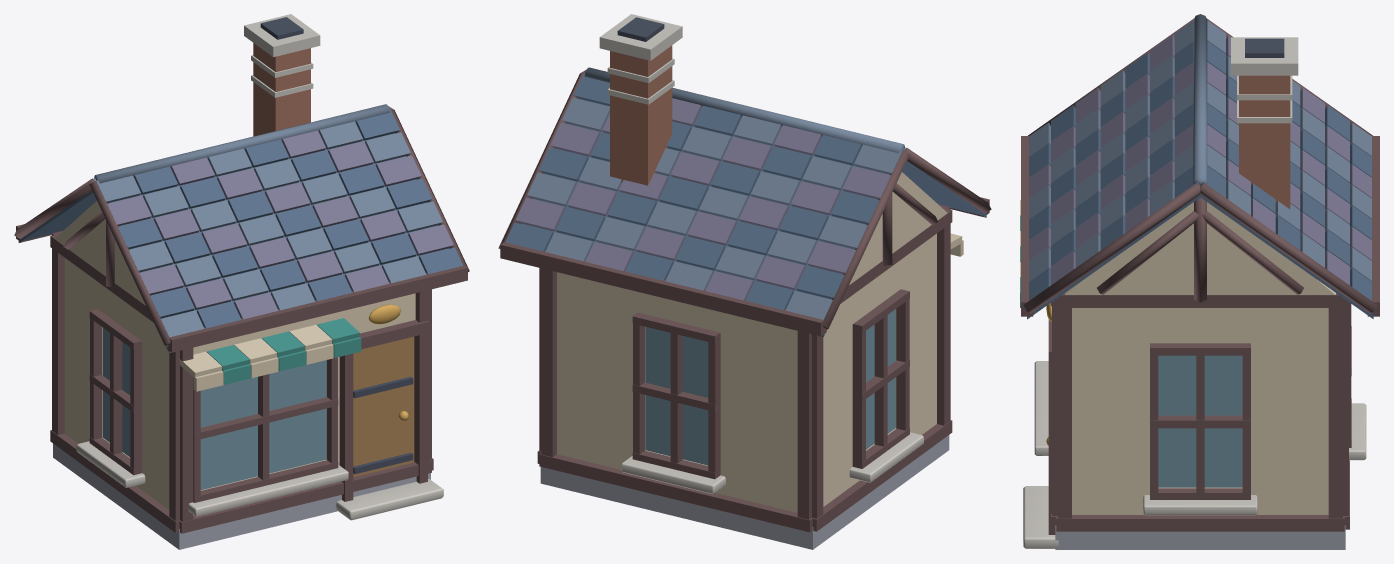
File: bakery.glb
3 views of the same model, side by side, from view 1: azimuth 30°, elevation 25°; view 2: azimuth 150°, elevation 25°; view 3: azimuth 270°, elevation 25° (orthographic). The views are drawn at different scales.
Parts seen in each view (by area): view 1: glass_bakery_front_floor0_window0, bakery_front_oak_door, bakery_eave_fascia, bakery_stone_footing, bakery_russet_chimney, bakery_left_wall.006, bakery_front_beam, bakery_left_wall.001, bakery_roof_ridge, bakery_gable_infill.001, bakery_left_corner_post, bakery_front_floor0_window0_sill (+98 smaller); view 2: bakery_back_wall.006, bakery_back_wall.001, bakery_stone_footing, bakery_russet_chimney, glass_bakery_back_floor0_window0, bakery_eave_fascia.001, bakery_back_beam, bakery_left_wall.001, bakery_left_wall.006, bakery_back_corner_post, bakery_gable_infill.001, bakery_roof_ridge (+89 smaller); view 3: bakery_right_wall.006, bakery_right_wall.001, bakery_gable_infill, glass_bakery_right_floor0_window0, bakery_stone_footing, bakery_russet_chimney, bakery_right_beam, bakery_right_wall.007, bakery_right_beam.001, bakery_right_wall.002, bakery_right_corner_post.001, bakery_right_wall.004 (+107 smaller).
Boxes of the visible parts, left/top/right/bottom form: glass_bakery_front_floor0_window0: left=200, top=360, right=326, bottom=490; bakery_front_oak_door: left=353, top=336, right=414, bottom=477; bakery_eave_fascia: left=166, top=265, right=467, bottom=352; bakery_stone_footing: left=53, top=443, right=430, bottom=549; bakery_russet_chimney: left=253, top=43, right=310, bottom=136; bakery_left_wall.006: left=142, top=348, right=169, bottom=486; bakery_front_beam: left=179, top=461, right=431, bottom=533; bakery_left_wall.001: left=64, top=291, right=102, bottom=437; bakery_roof_ridge: left=94, top=104, right=389, bottom=183; bakery_gable_infill.001: left=55, top=201, right=145, bottom=305; bakery_left_corner_post: left=52, top=248, right=64, bottom=434; bakery_front_floor0_window0_sill: left=188, top=465, right=348, bottom=516; bakery_back_wall.006: left=720, top=340, right=797, bottom=487; bakery_back_wall.001: left=557, top=301, right=645, bottom=449; bakery_stone_footing: left=540, top=435, right=949, bottom=549; bakery_russet_chimney: left=610, top=45, right=672, bottom=185; glass_bakery_back_floor0_window0: left=645, top=326, right=708, bottom=465; bakery_eave_fascia.001: left=500, top=242, right=826, bottom=336; bakery_back_beam: left=539, top=453, right=812, bottom=532; bakery_left_wall.001: left=823, top=331, right=852, bottom=481; bakery_left_wall.006: left=895, top=270, right=936, bottom=427; bakery_back_corner_post: left=541, top=268, right=556, bottom=457; bakery_gable_infill.001: left=849, top=172, right=947, bottom=284; bakery_roof_ridge: left=584, top=67, right=905, bottom=153; bakery_right_wall.006: left=1251, top=350, right=1328, bottom=488; bakery_right_wall.001: left=1074, top=350, right=1149, bottom=488; bakery_gable_infill: left=1065, top=202, right=1335, bottom=294; glass_bakery_right_floor0_window0: left=1158, top=355, right=1242, bottom=487; bakery_stone_footing: left=1055, top=525, right=1345, bottom=549; bakery_russet_chimney: left=1239, top=75, right=1290, bottom=209; bakery_right_beam: left=1056, top=515, right=1344, bottom=531; bakery_right_wall.007: left=1242, top=308, right=1328, bottom=350; bakery_right_beam.001: left=1056, top=293, right=1344, bottom=307; bakery_right_wall.002: left=1072, top=308, right=1158, bottom=350; bakery_right_corner_post.001: left=1328, top=308, right=1342, bottom=518; bakery_right_wall.004: left=1158, top=308, right=1242, bottom=343.
Bounding box in the file's own units: 4.33 × 5.55 × 3.84.
